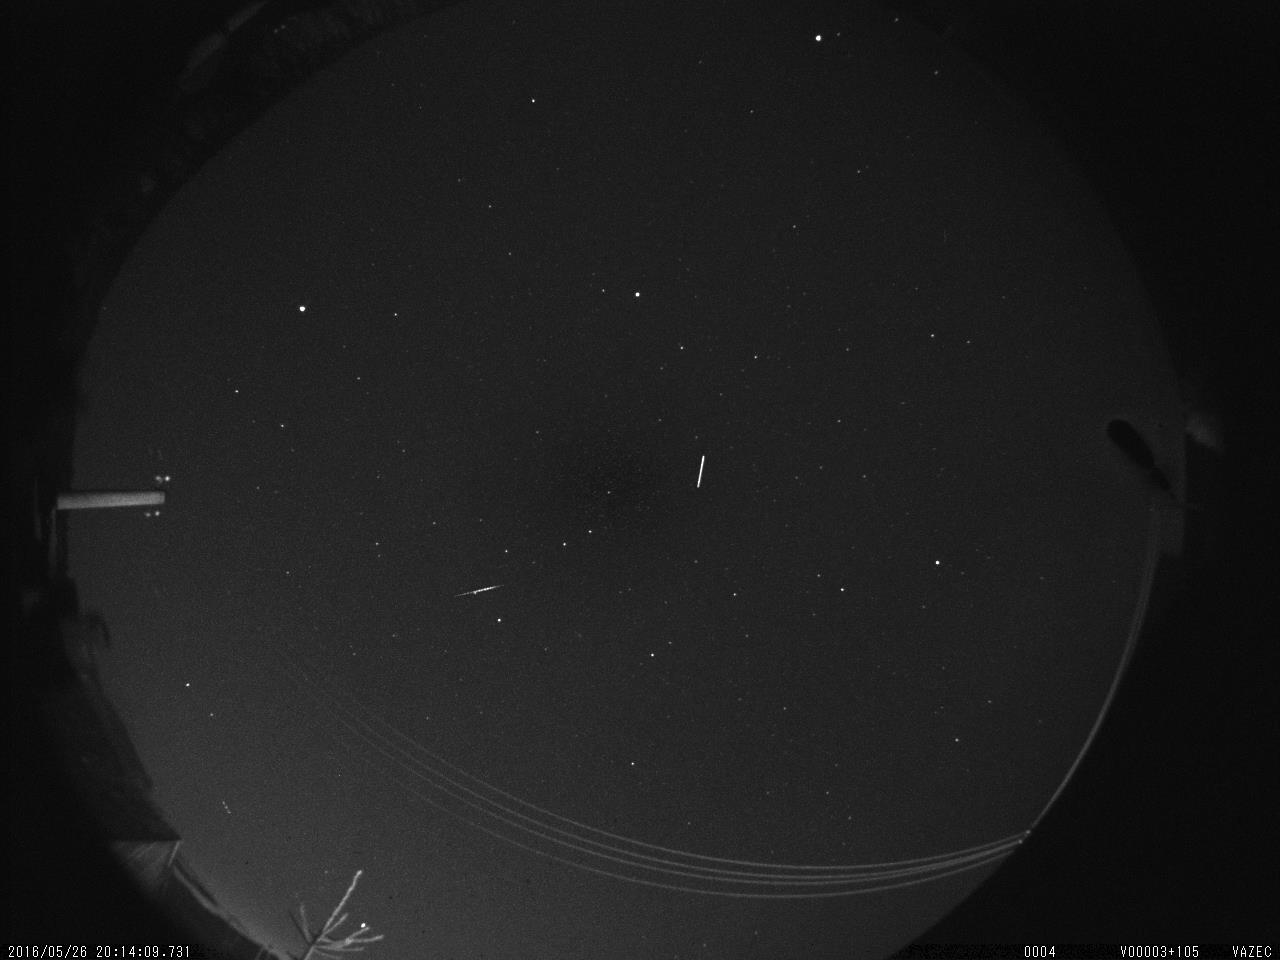meteor: (450, 574, 518, 604)
satelite: (687, 448, 716, 501)
